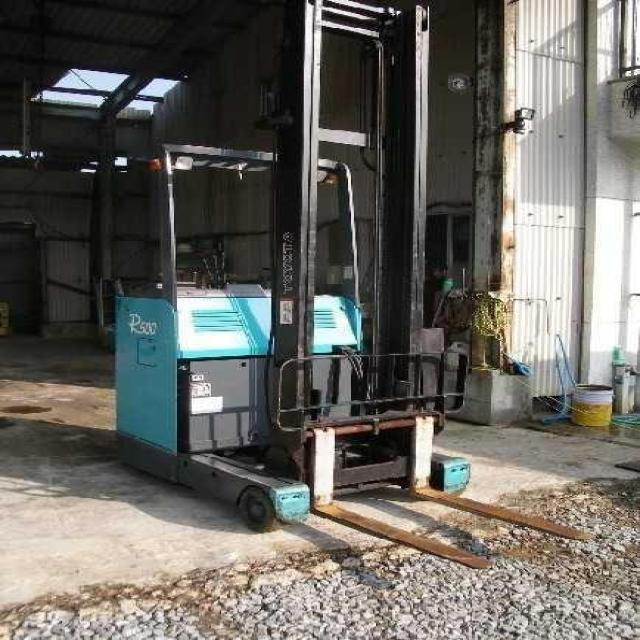forklift: (112, 0, 455, 531)
